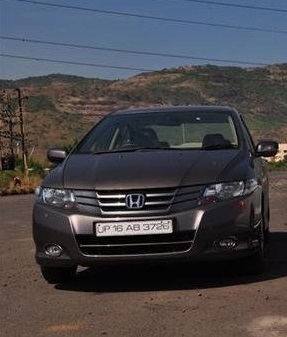UP16AB3726: (94, 219, 172, 236)
